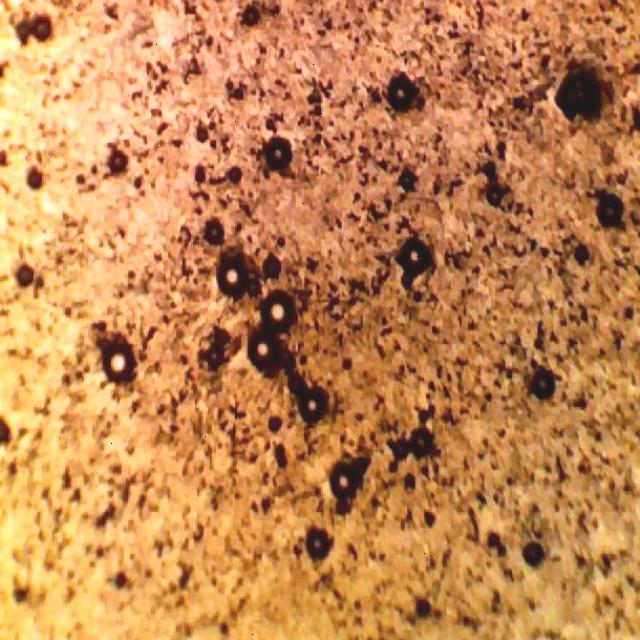microbeads: (210, 250, 252, 302), (100, 339, 138, 389), (245, 323, 283, 373), (262, 136, 296, 174)
